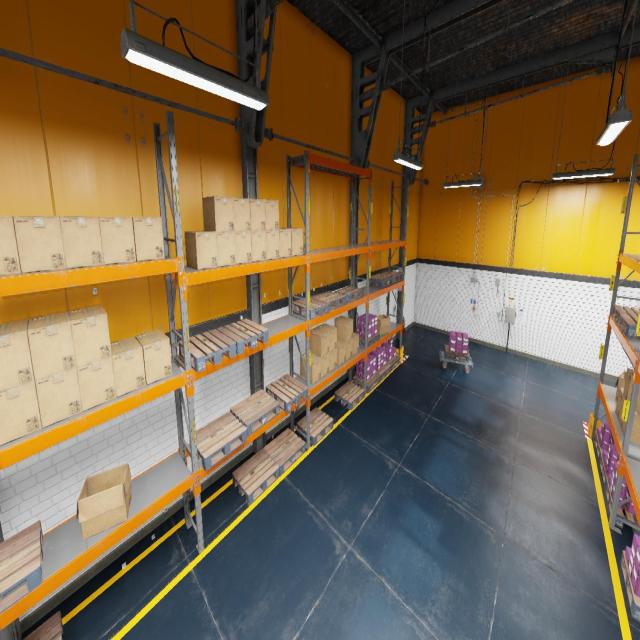box: (77, 462, 131, 540), (28, 312, 76, 380), (13, 216, 66, 273), (35, 367, 82, 428), (0, 379, 42, 446), (68, 305, 112, 367), (0, 319, 34, 391), (59, 216, 104, 268), (110, 337, 146, 397), (77, 357, 116, 411), (135, 329, 172, 384), (99, 217, 136, 264), (132, 217, 164, 261), (184, 230, 218, 270), (0, 216, 21, 275), (202, 196, 234, 232), (618, 395, 640, 430), (622, 407, 640, 447), (216, 232, 236, 266), (300, 352, 321, 384), (623, 368, 640, 407), (233, 197, 251, 231), (234, 231, 252, 264), (317, 323, 337, 352), (310, 327, 329, 357), (282, 228, 302, 256), (250, 198, 266, 230), (334, 316, 353, 342), (251, 230, 266, 261), (266, 230, 280, 259), (265, 200, 279, 229), (279, 228, 292, 258), (614, 371, 626, 401), (338, 338, 353, 361), (615, 387, 624, 421), (377, 314, 390, 335), (337, 338, 346, 365), (321, 353, 329, 378), (329, 348, 337, 372), (353, 333, 359, 356)
pallets: (0, 520, 43, 614), (189, 411, 247, 471), (232, 448, 279, 506), (178, 329, 236, 372), (230, 389, 279, 436), (263, 428, 305, 475), (605, 480, 640, 536), (217, 319, 268, 354), (266, 374, 308, 412), (620, 551, 640, 622), (297, 407, 333, 446), (22, 611, 62, 639), (334, 381, 365, 410), (292, 297, 330, 319), (310, 291, 347, 310), (611, 304, 640, 323), (353, 373, 380, 392), (618, 313, 638, 338), (444, 344, 470, 363), (334, 286, 363, 303), (355, 332, 380, 347), (369, 274, 394, 287), (595, 432, 606, 461), (374, 362, 391, 380), (379, 270, 403, 282), (600, 454, 608, 488), (385, 355, 400, 370)
